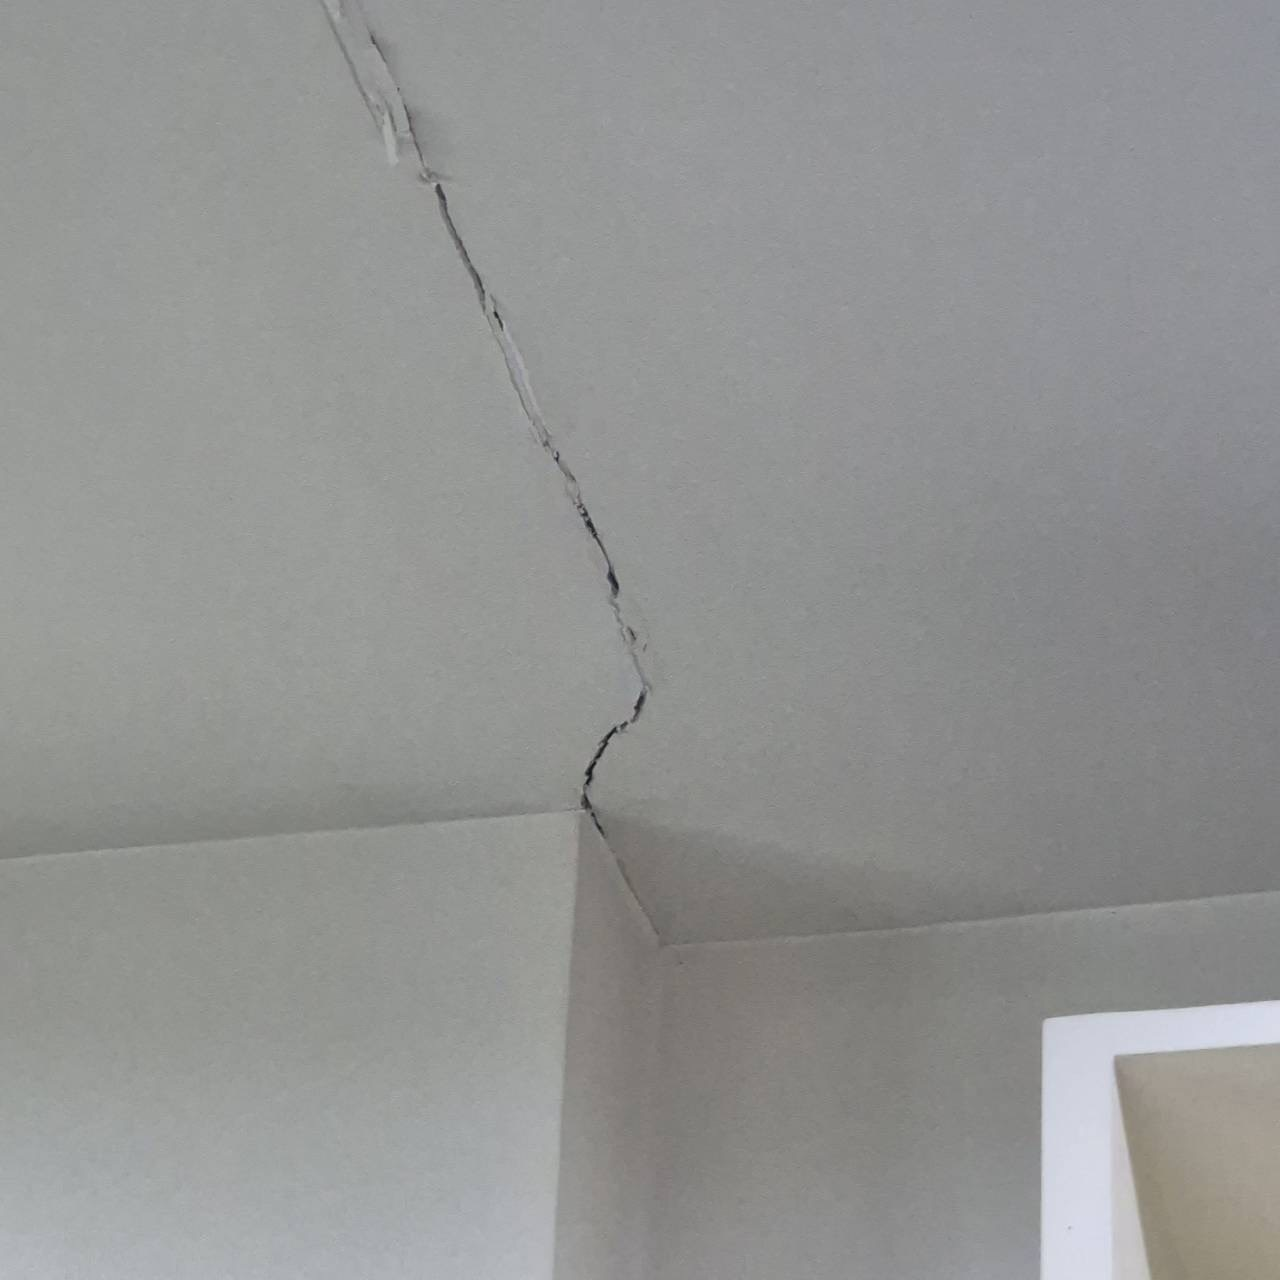Low: (308, 20, 668, 862)
